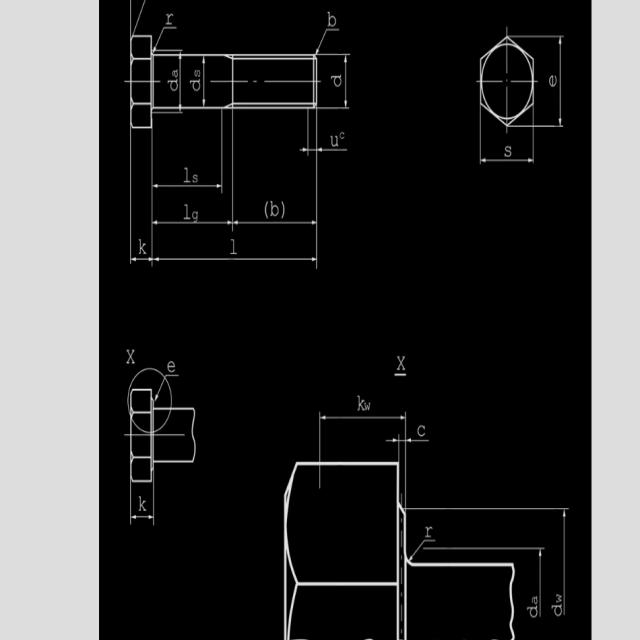marking_line: (154, 255, 316, 263), (555, 37, 564, 129), (322, 413, 405, 421), (153, 218, 230, 226), (562, 512, 567, 616), (536, 549, 543, 618), (153, 182, 222, 188), (234, 220, 316, 225), (200, 57, 207, 107), (342, 56, 348, 110), (482, 159, 534, 165), (177, 57, 183, 108), (406, 437, 430, 446), (319, 148, 349, 155), (129, 255, 151, 263), (384, 436, 400, 444), (131, 514, 152, 520), (297, 145, 310, 154)
numeric: (327, 12, 342, 29)
special_symbol: (311, 26, 347, 53)
